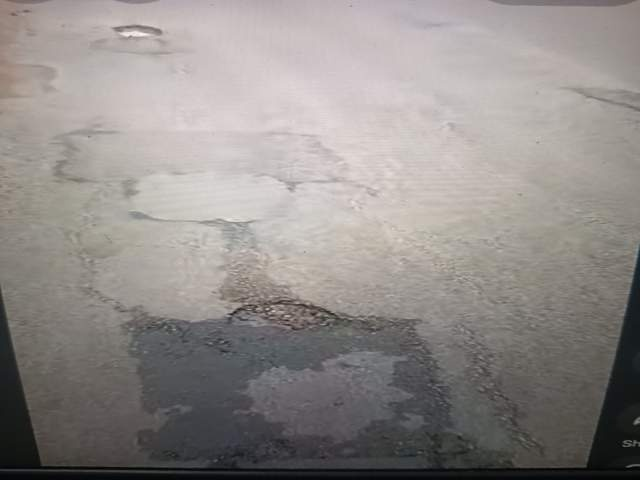pothole: (109, 403, 328, 480)
